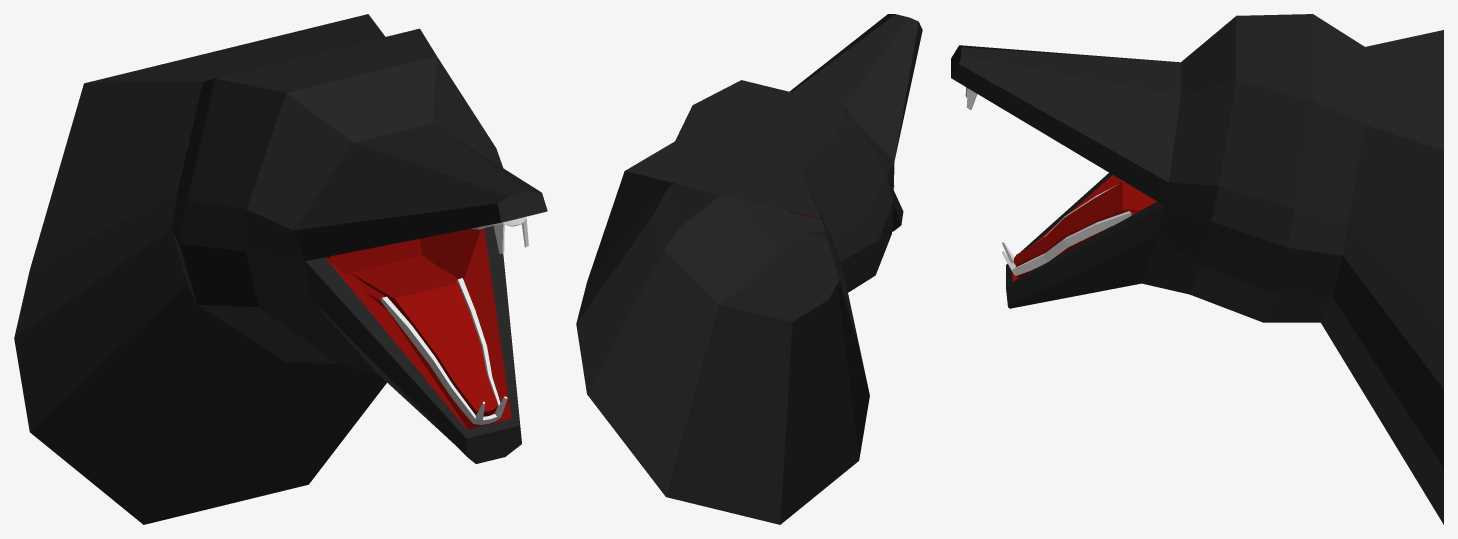
The model's file is OhGodThisWillSuck.fbx.
3 renders of one model, left to right at view 1: azimuth 30°, elevation 25°; view 2: azimuth 150°, elevation 25°; view 3: azimuth 270°, elevation 25°, orthographic. The views are drawn at different scales.
Parts seen in each view (by area): view 1: Cube; view 2: Cube; view 3: Cube.
Boxes of the visible parts, x1,y1,x2,y2 form: Cube: [14, 14, 547, 524]; Cube: [576, 14, 922, 524]; Cube: [951, 14, 1443, 524].
Size of the model in its own units: 167 by 193 by 192.
